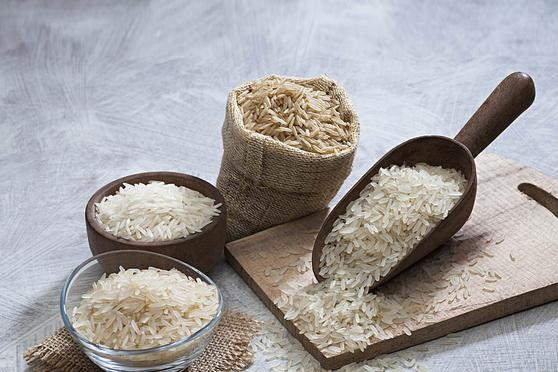rice: (306, 161, 475, 286), (66, 258, 221, 358), (89, 176, 218, 240)
